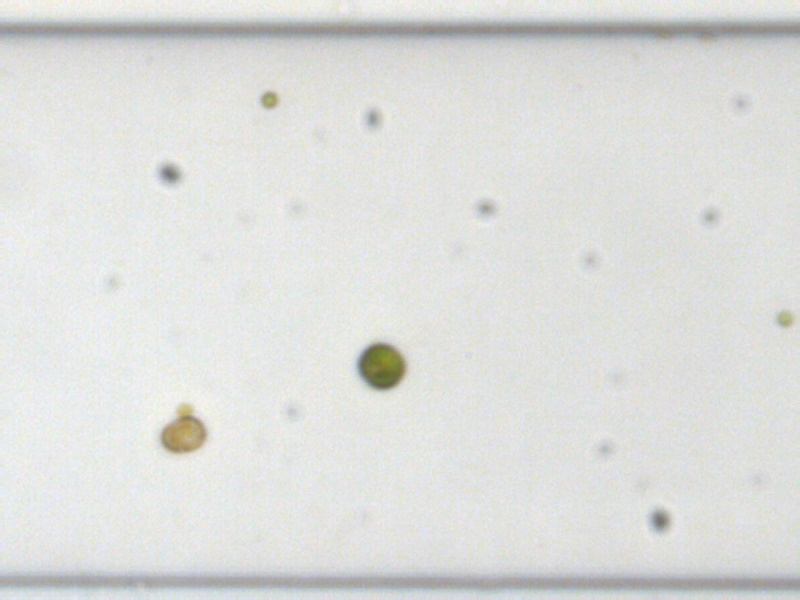Chlorella: (774, 307, 794, 327), (259, 89, 278, 109)
Effrenium: (156, 413, 209, 456)
Platymonas: (352, 339, 407, 392)
